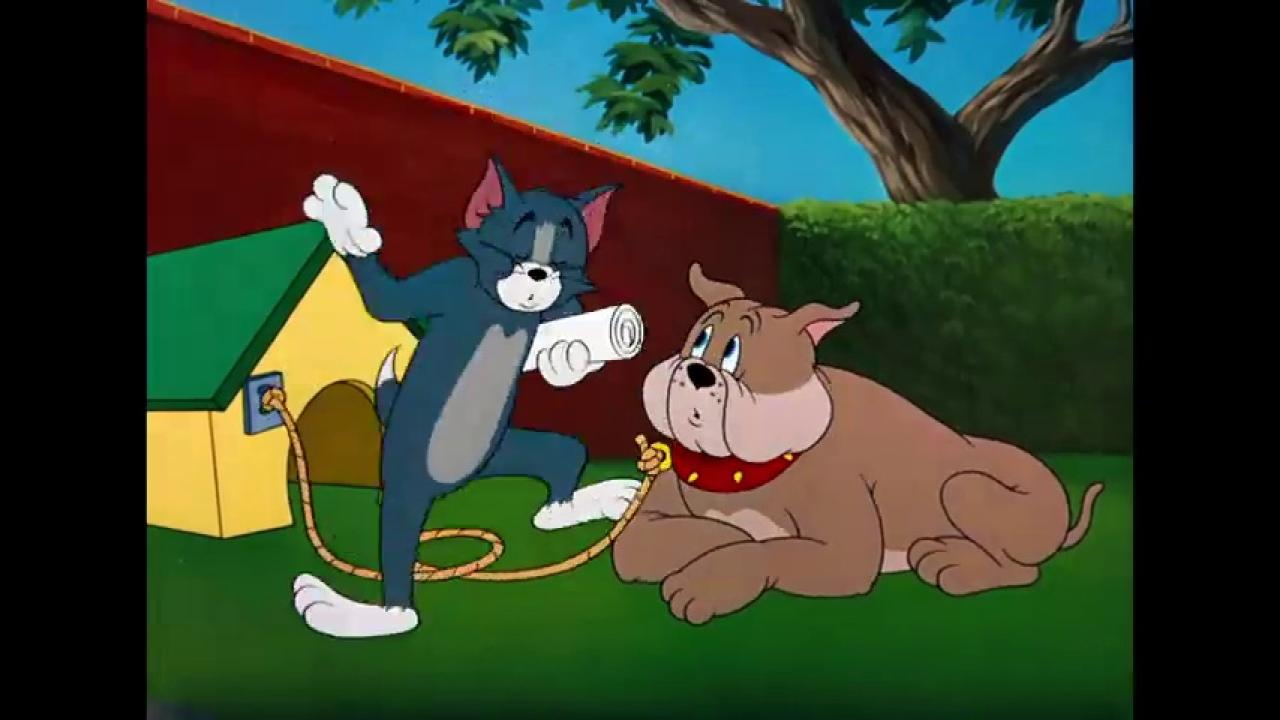Tom: (291, 147, 643, 639)
